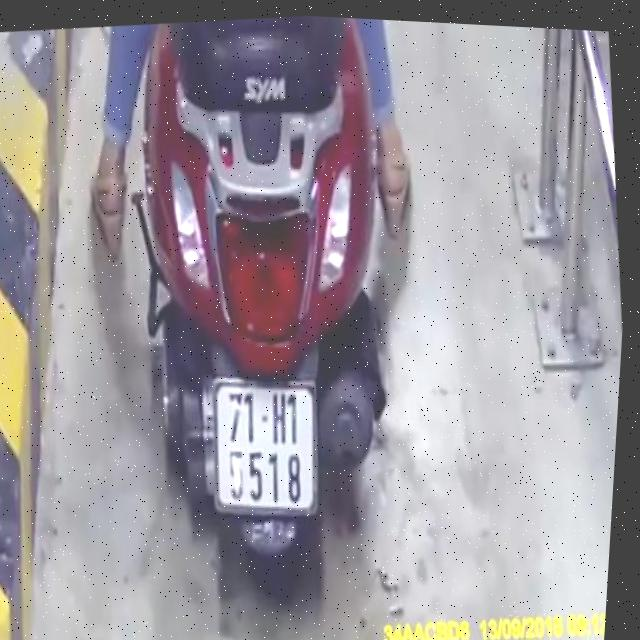motorcycle: (89, 6, 432, 620)
plate: (190, 359, 332, 529)
